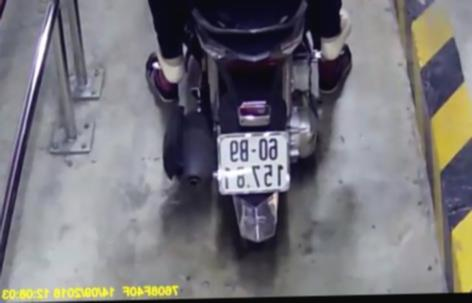License_Plate: (211, 125, 296, 199)
